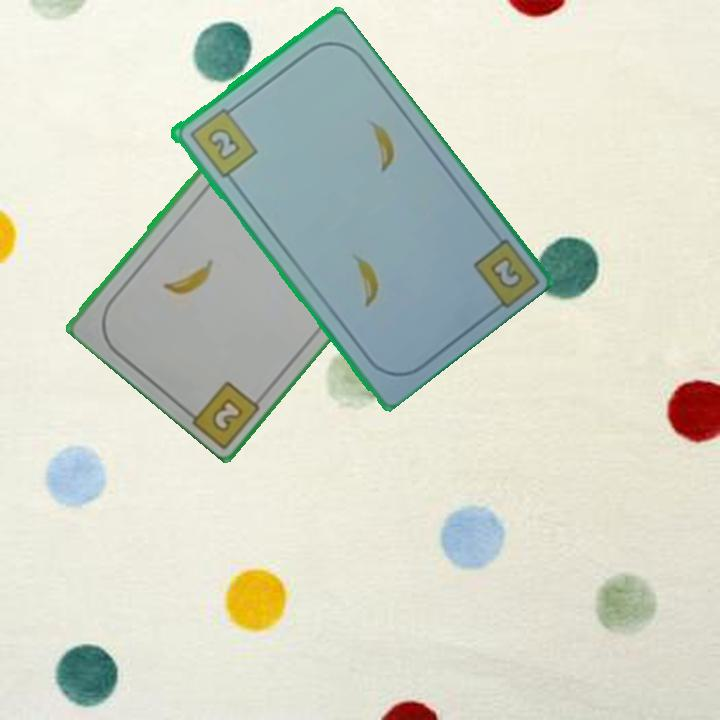2b: (185, 101, 260, 181), (207, 393, 247, 435), (486, 251, 525, 292)
